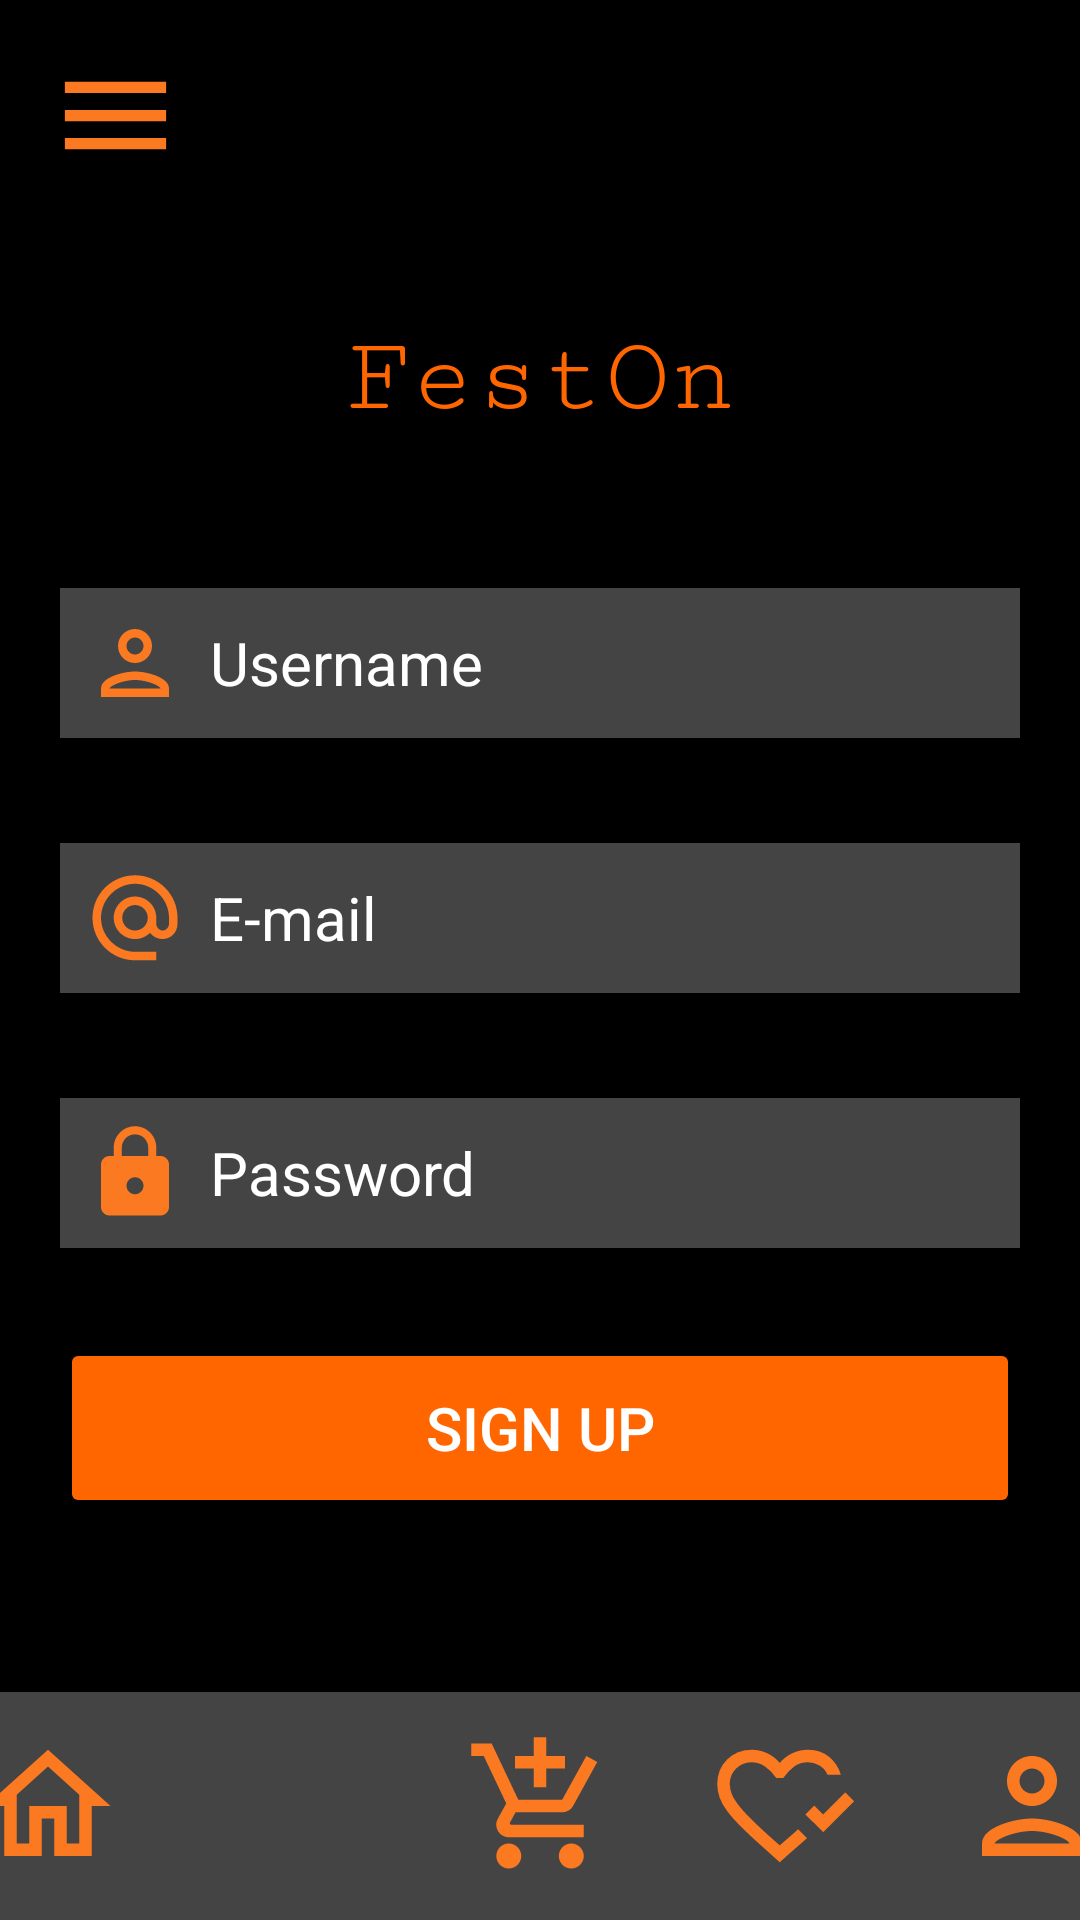

Icons on this 1080w x 1920h Android screen, each with the point to tap as [x,y]:
Cart Icon: [534,1803]
Favorites Icon: [785,1805]
lock: [135,1171]
Menu Icon: [115,115]
person: [135,663]
